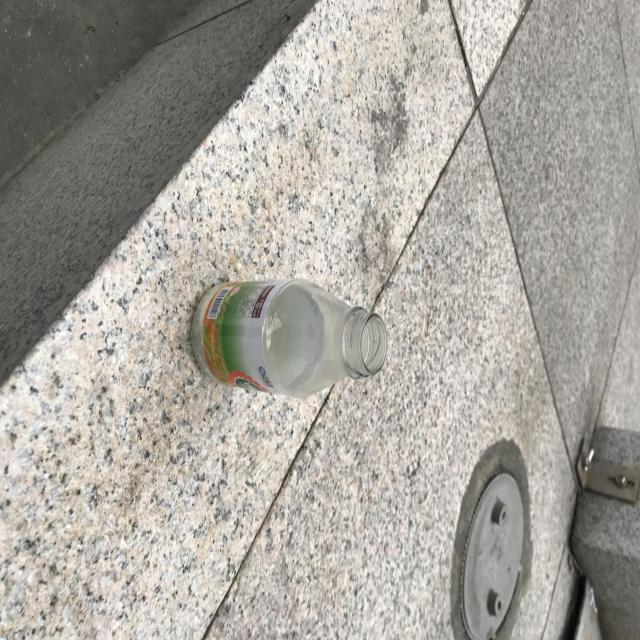glass: (192, 279, 387, 398)
